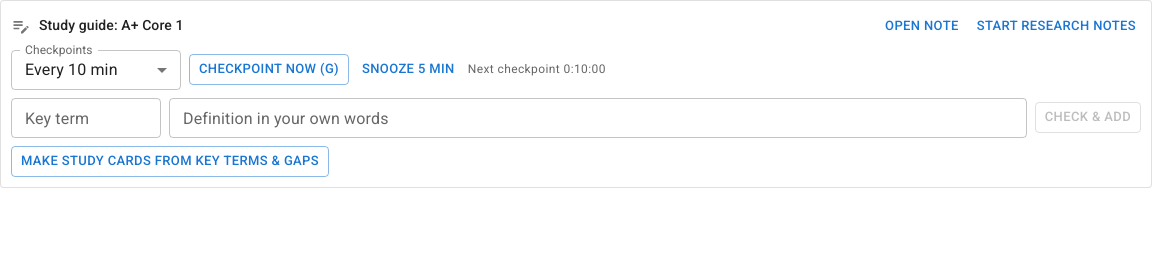
Study guide panel (#365) › a checkpoint at the very start asks you to watch first
Expected: the heading "Study guide: A+ Core 1" is shown, top-left (39, 17), bottom-right (184, 33)
Step 1. Click the button "Checkpoint now (G)" → (269, 70), box top-left (189, 54), bottom-right (349, 85)
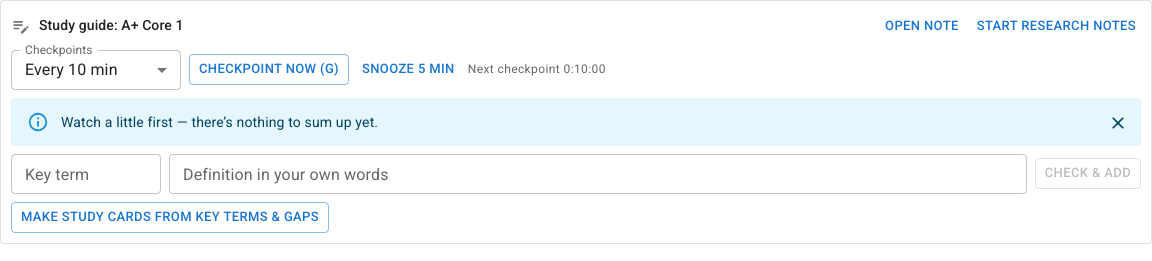
Expected: the text "Watch a little first — there’s nothing to sum up yet." is shown, top-left (61, 114), bottom-right (378, 130)
